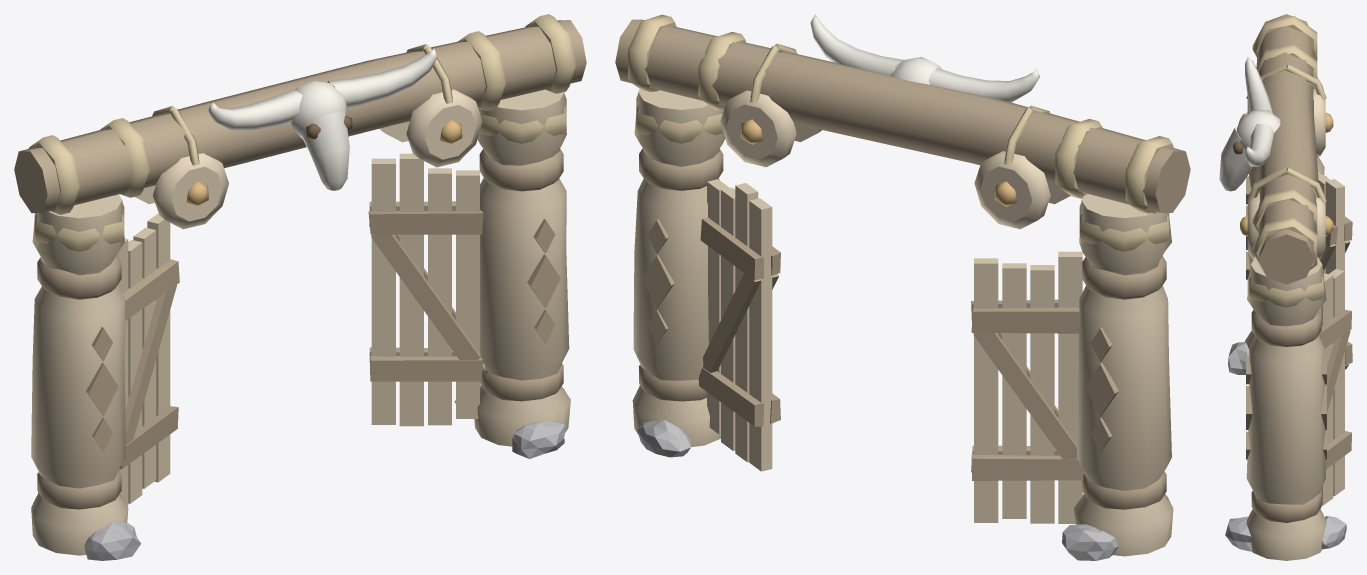
File: building.gate.glb
The picture shows the model from 3 angles, left to right: view 1: azimuth 30°, elevation 25°; view 2: azimuth 150°, elevation 25°; view 3: azimuth 270°, elevation 25°; orthographic projection. The views are drawn at different scales.
Visible parts, largest first — view 1: Paint, PaintDark, Rope, Bone, Hide, Stone, Bronze; view 2: Paint, PaintDark, Rope, Hide, Bone, Stone, Bronze; view 3: Paint, PaintDark, Rope, Bone, Stone, Hide, Bronze.
Boxes of the visible parts, bbox=[...] form: Paint: bbox=[31, 89, 570, 555]; PaintDark: bbox=[14, 20, 586, 509]; Rope: bbox=[28, 14, 576, 373]; Bone: bbox=[208, 49, 437, 190]; Hide: bbox=[135, 89, 482, 229]; Stone: bbox=[84, 384, 564, 560]; Bronze: bbox=[186, 119, 462, 206]; Paint: bbox=[632, 89, 1173, 556]; PaintDark: bbox=[615, 19, 1190, 509]; Rope: bbox=[628, 14, 1173, 251]; Hide: bbox=[720, 90, 1070, 229]; Bone: bbox=[810, 14, 1039, 102]; Stone: bbox=[637, 419, 1168, 560]; Bronze: bbox=[740, 119, 1017, 206]; Paint: bbox=[1245, 77, 1344, 560]; PaintDark: bbox=[1246, 14, 1352, 522]; Rope: bbox=[1246, 16, 1326, 307]; Bone: bbox=[1219, 57, 1280, 191]; Stone: bbox=[1225, 342, 1349, 551]; Hide: bbox=[1247, 89, 1325, 259]; Bronze: bbox=[1240, 112, 1333, 236].
Bounding box in the file's own units: 2 × 1.5 × 0.5134.
